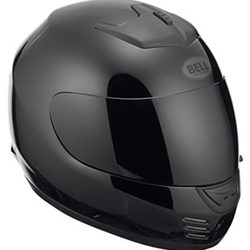with_helmet: (6, 1, 243, 250)
